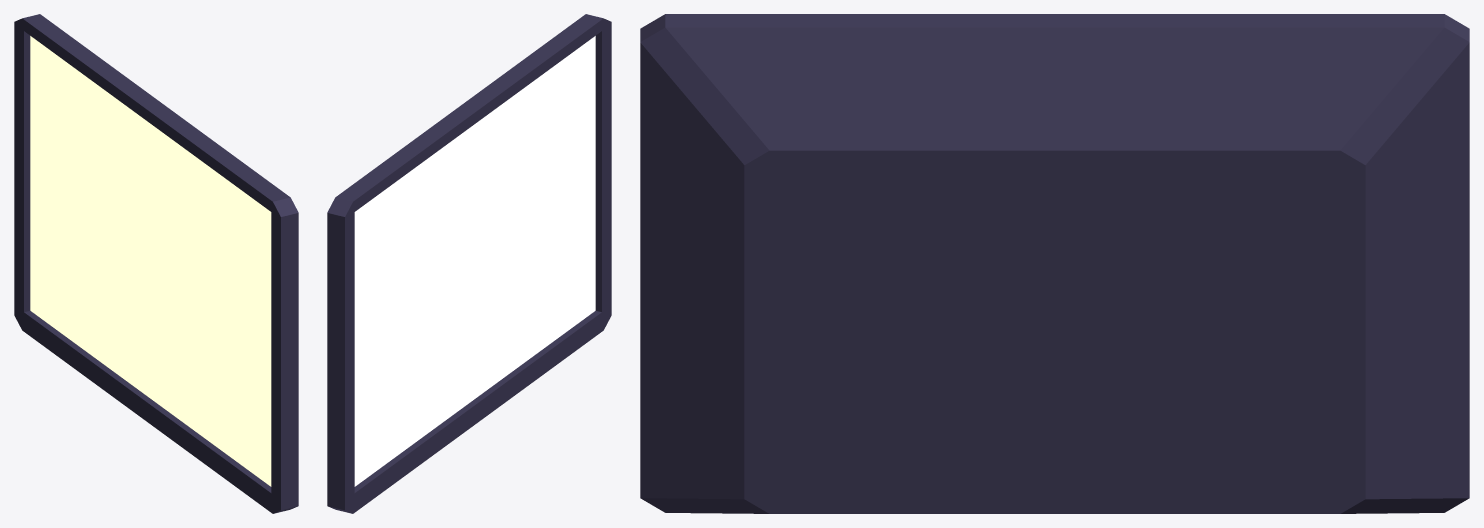
3 views of the same model, side by side, from view 1: azimuth 30°, elevation 25°; view 2: azimuth 150°, elevation 25°; view 3: azimuth 270°, elevation 25° (orthographic). The views are drawn at different scales.
Parts seen in each view (by area): view 1: ТV_01; view 2: ТV_01; view 3: ТV_01.
Boxes of the visible parts, x1,y1,x2,y2 form: ТV_01: (14, 14, 298, 513); ТV_01: (327, 14, 611, 513); ТV_01: (640, 14, 1469, 513).
Size of the model in its own units: 17.34 by 106 by 164.
